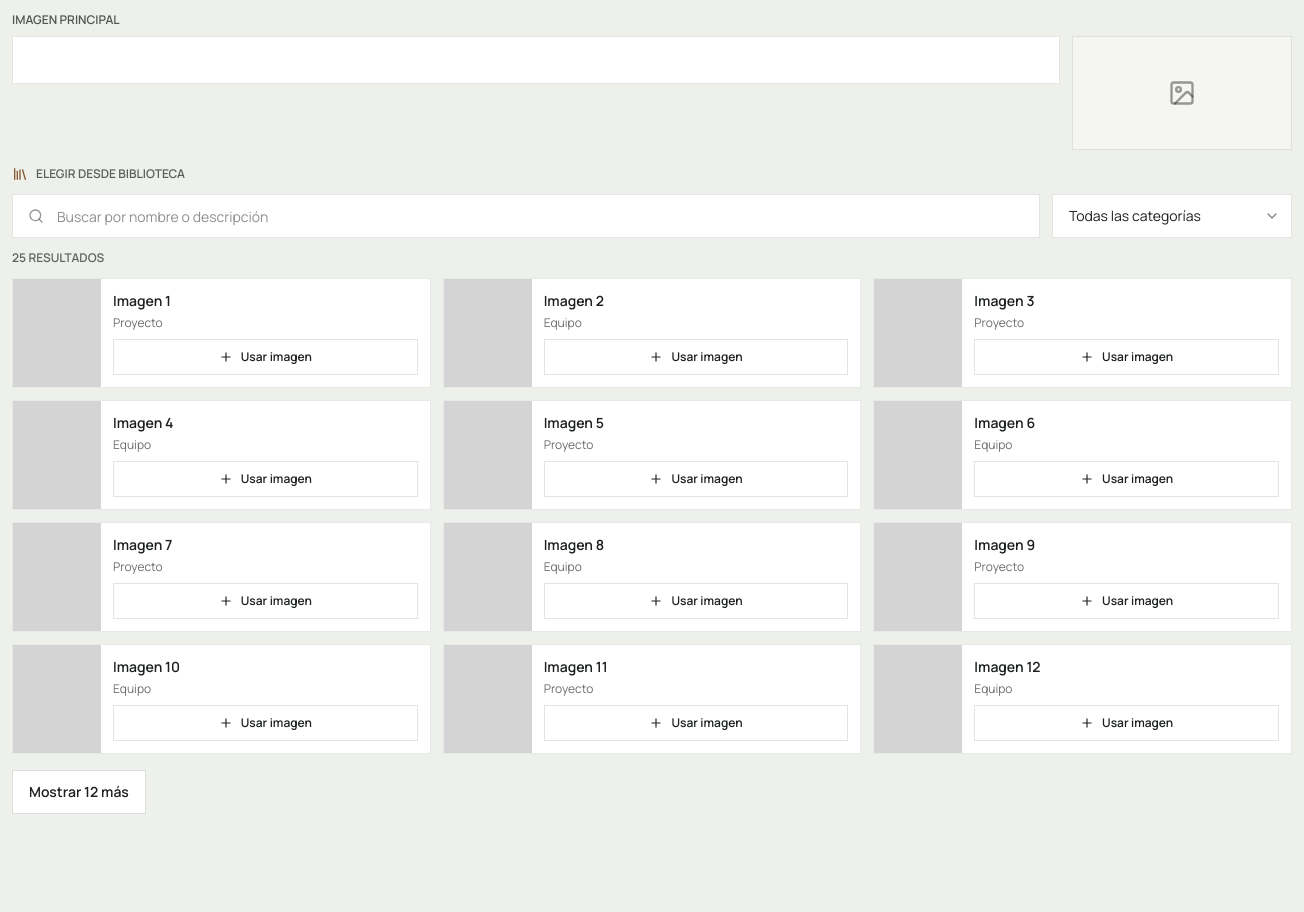
MediaImageField library › keeps large approved libraries searchable beyond the first page
This screenshot has width=1304, height=912.
Check: the button with aria-label "Usar Imagen 12" is shown, box x1=974 y1=705 x2=1279 y2=741
Type "Imagen 13" into the search field named "Buscar imágenes en la biblioteca" at (526, 216), box x1=12 y1=194 x2=1040 y2=238
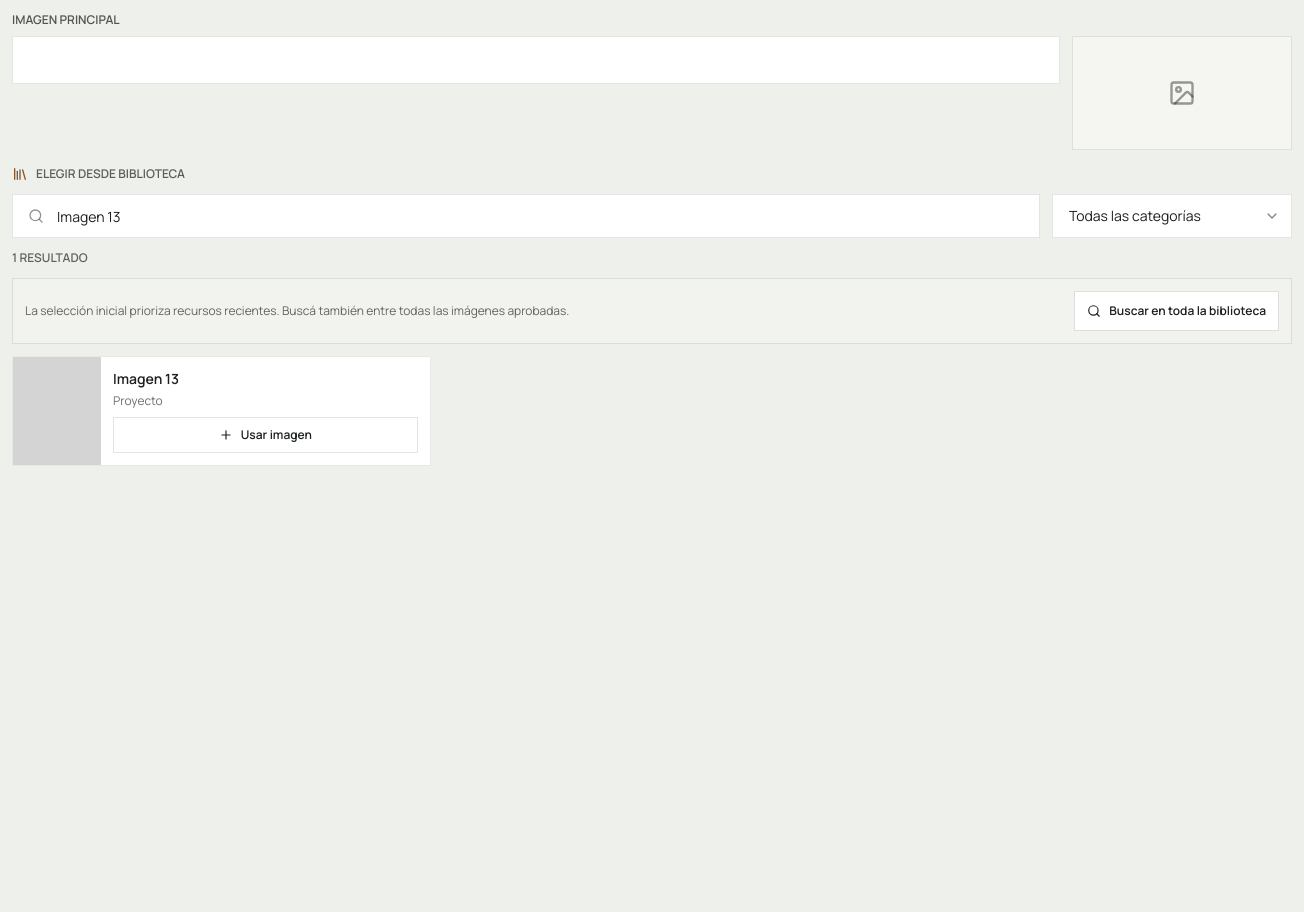
Check: the button with aria-label "Usar Imagen 13" is shown, box x1=113 y1=417 x2=418 y2=453
Check: the text "1 resultado" is shown, box x1=12 y1=249 x2=88 y2=266
